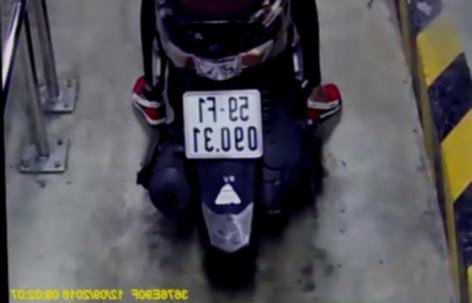License_Plate: (180, 87, 274, 164)
